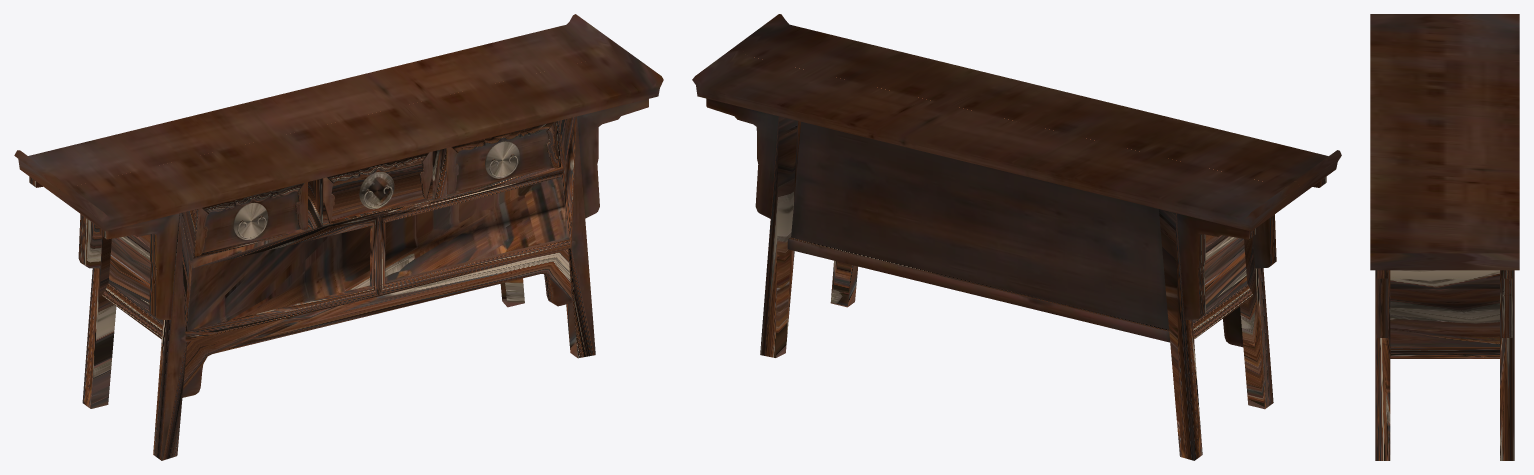
Rendered from chinese_commode.glb.
3 views of the same model, side by side, from view 1: azimuth 30°, elevation 25°; view 2: azimuth 150°, elevation 25°; view 3: azimuth 270°, elevation 25° (orthographic). The views are drawn at different scales.
Visible parts, largest first — view 1: Plane.004, chinese_commode; view 2: Plane.004; view 3: Plane.004.
Part boxes in pixels (x1,y1,x2,y2): Plane.004: (14,14,663,460); chinese_commode: (194,121,560,256); Plane.004: (692,14,1341,460); Plane.004: (1370,14,1519,460).
Bounding box in the file's own units: 4.49 × 2.02 × 1.17.
Materials: 1 (1 with a texture image).
